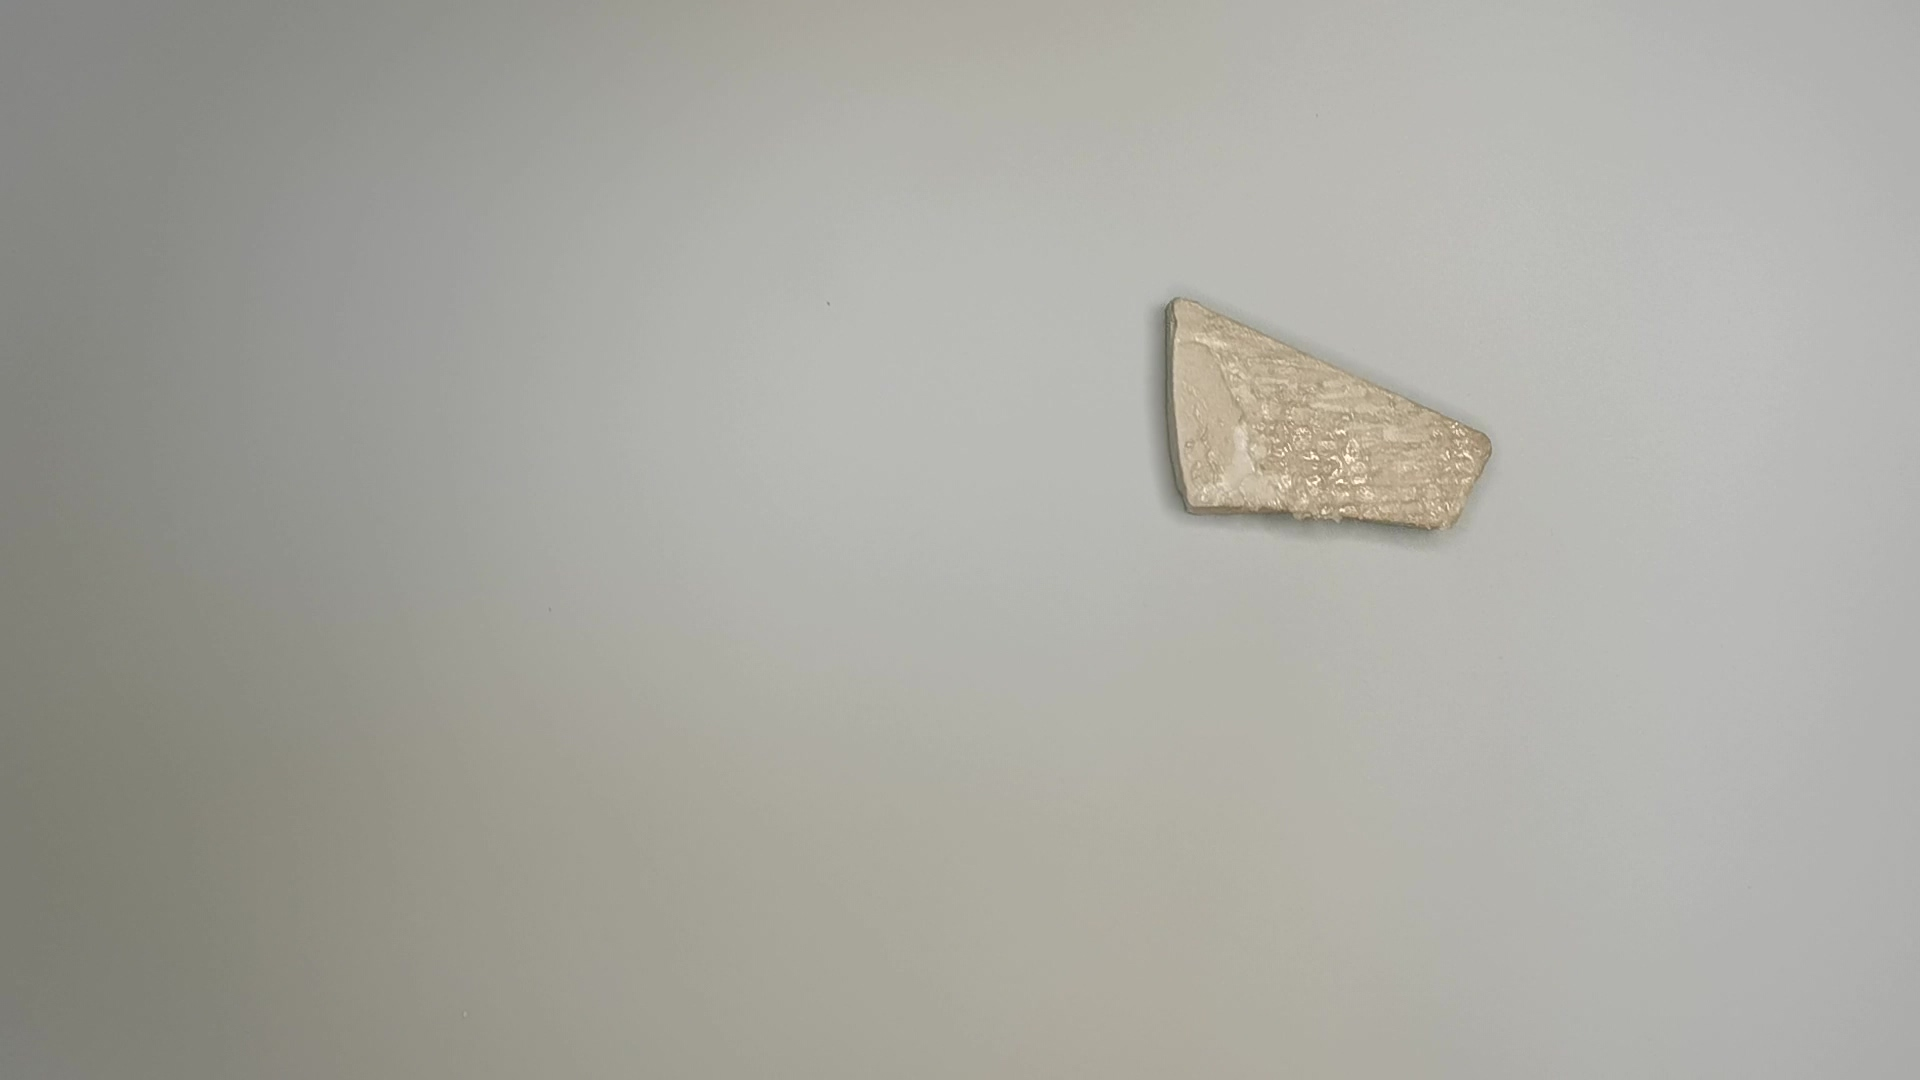ceramic: (1158, 295, 1501, 546)
